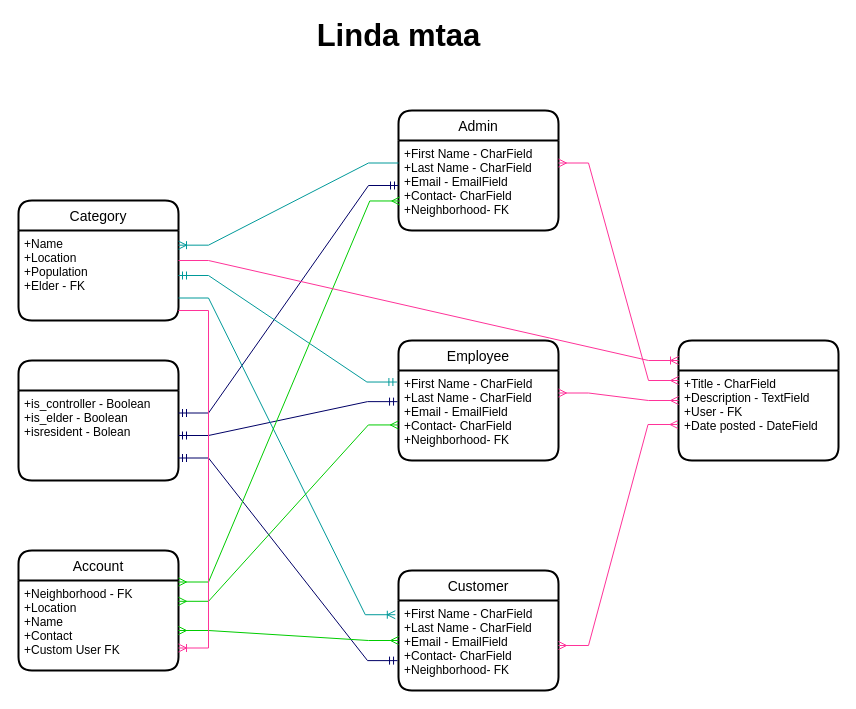
This 856x709 diagram has some shape labels left out. The shapes that lost their labels are listed below. From the top down, each one's box as (x1, y1, x2, y2) in pixels, then its label:
(17, 359, 179, 481): User
(677, 339, 839, 461): Product
